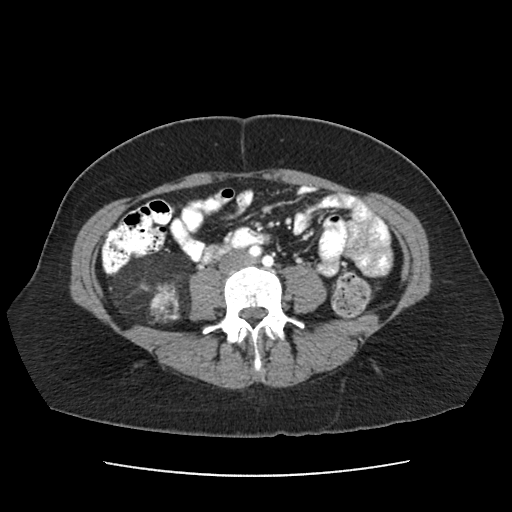Lesion: (102, 257, 191, 332)
